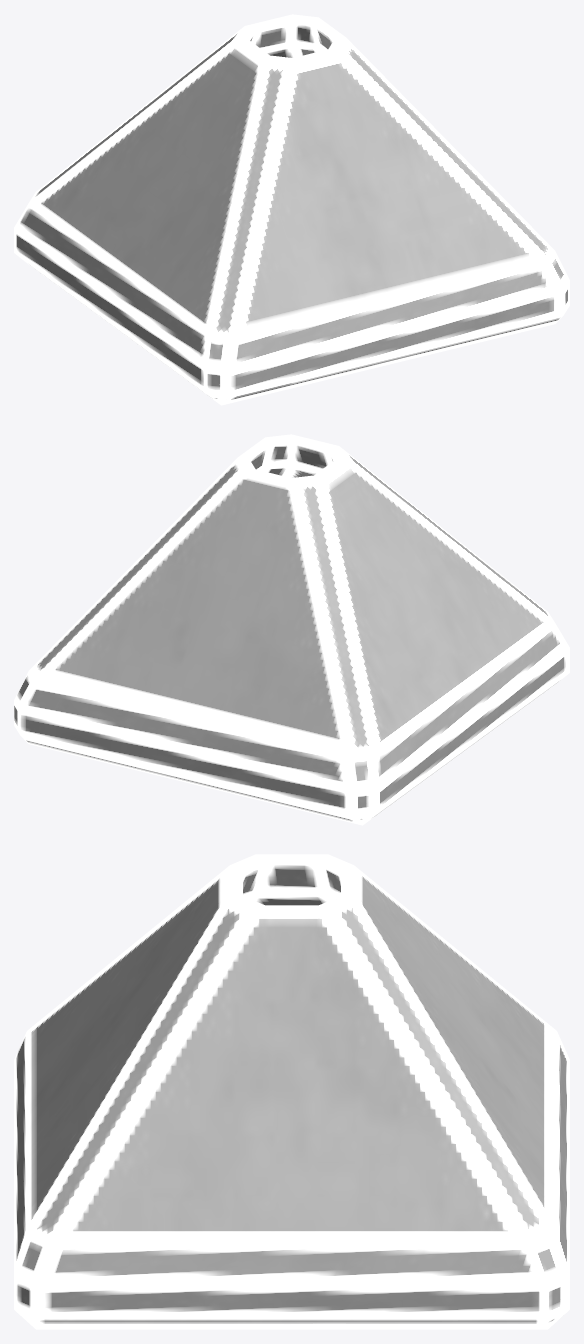
3 renders of one model, top to bottom at view 1: azimuth 30°, elevation 25°; view 2: azimuth 150°, elevation 25°; view 3: azimuth 270°, elevation 25°, orthographic. The views are drawn at different scales.
Parts seen in each view (by area): view 1: Pyramid.001; view 2: Pyramid.001; view 3: Pyramid.001.
Boxes of the visible parts, x1,y1,x2,y2 form: Pyramid.001: [14, 14, 569, 405]; Pyramid.001: [14, 434, 569, 825]; Pyramid.001: [14, 854, 569, 1329].
Bounding box in the file's own units: 1.56 × 1.05 × 1.56.
1 material, 1 textured.
